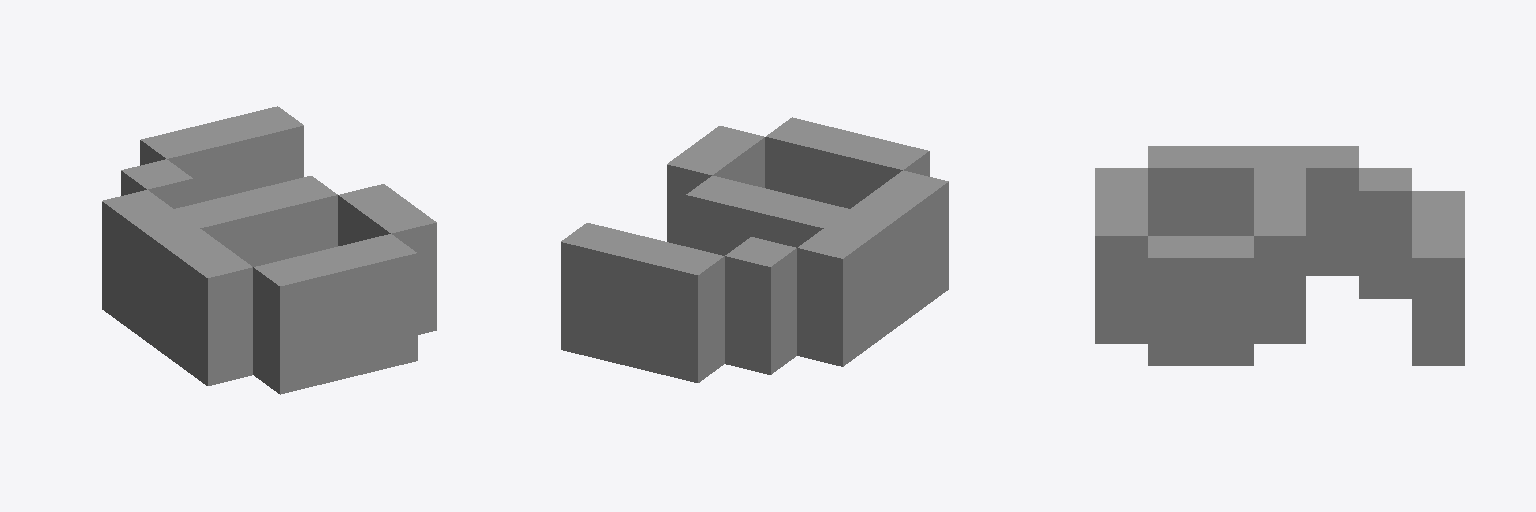
3 renders of one model, left to right at view 1: azimuth 30°, elevation 25°; view 2: azimuth 150°, elevation 25°; view 3: azimuth 270°, elevation 25°, orthographic.
Visible parts, largest first — view 1: 6_CUABC.033; view 2: 6_CUABC.033; view 3: 6_CUABC.033.
Part boxes in pixels (x1,y1,x2,y2): 6_CUABC.033: (102, 106, 436, 394); 6_CUABC.033: (561, 117, 948, 382); 6_CUABC.033: (1095, 146, 1464, 365).
Bounding box in the file's own units: 0.5556 × 0.25 × 0.7778.